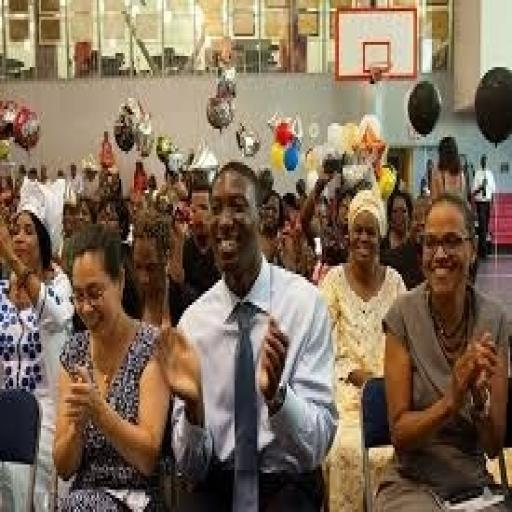clapping: (128, 106, 342, 512), (367, 112, 512, 512), (34, 169, 172, 512), (0, 100, 80, 512)
